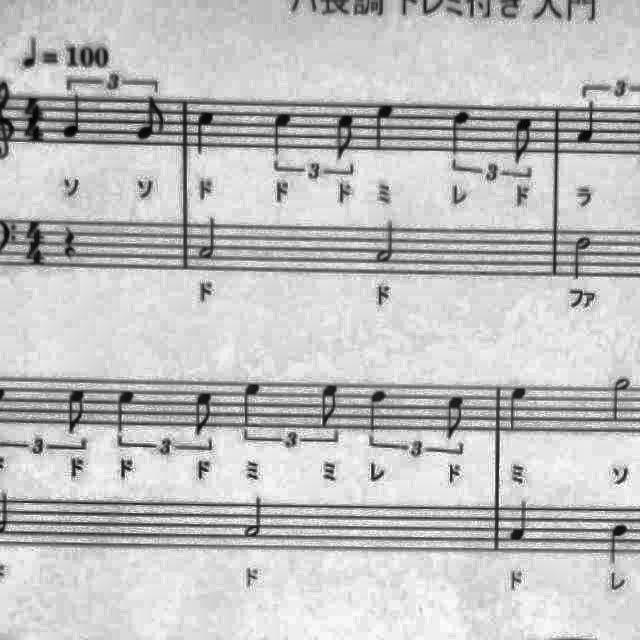Eighth-note: (132, 94, 168, 146), (330, 108, 362, 164), (61, 384, 93, 438), (509, 113, 539, 169), (314, 380, 346, 432), (186, 388, 218, 440), (441, 390, 472, 442)
Half-note: (608, 371, 640, 427), (567, 232, 597, 286), (372, 216, 403, 268), (237, 491, 267, 541), (196, 211, 224, 261)
Quarter-note: (368, 98, 404, 156), (444, 107, 478, 161), (109, 384, 141, 440), (504, 381, 536, 435), (234, 376, 266, 428), (362, 384, 394, 436), (266, 108, 298, 160), (189, 107, 219, 161), (571, 98, 601, 150), (60, 90, 88, 142), (504, 498, 532, 550), (606, 520, 634, 566)
Quarter-rest: (56, 220, 84, 264)
